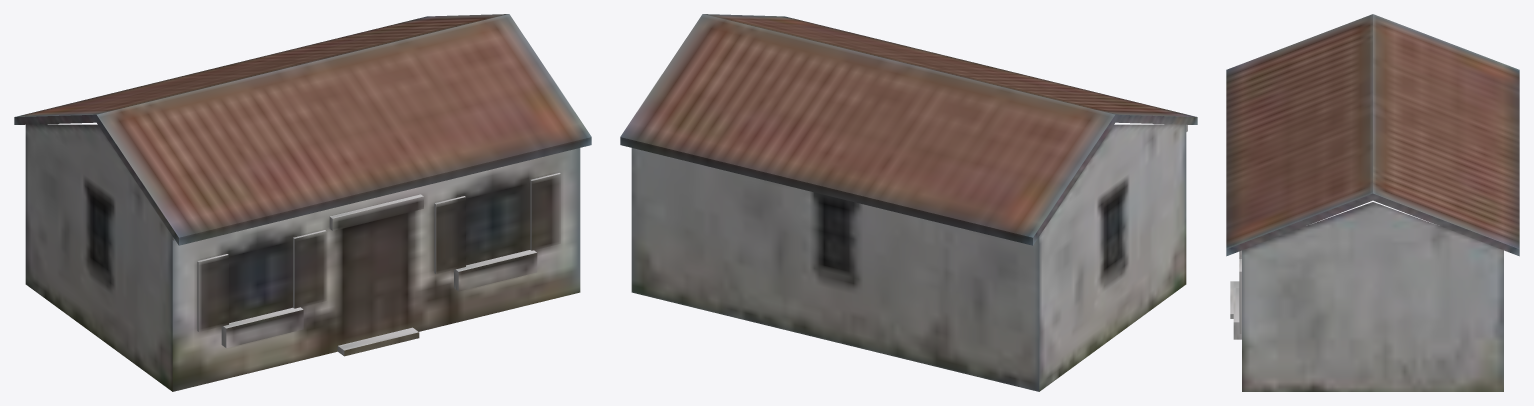
Rendered from casa_andaluza_5v_b_lejos.glb.
The picture shows the model from 3 angles, left to right: view 1: azimuth 30°, elevation 25°; view 2: azimuth 150°, elevation 25°; view 3: azimuth 270°, elevation 25°; orthographic projection. The views are drawn at different scales.
Parts seen in each view (by area): view 1: CA5B_Casa; view 2: CA5B_Casa; view 3: CA5B_Casa.
Part boxes in pixels (x1=…): CA5B_Casa: x1=14, y1=14, x2=591, y2=391; CA5B_Casa: x1=620, y1=14, x2=1197, y2=391; CA5B_Casa: x1=1226, y1=14, x2=1519, y2=391.
Size of the model in its own units: 8.1 by 4.2 by 5.6.
Materials: 1 (1 with a texture image).
